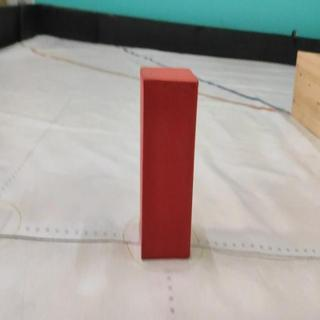redbox: (138, 66, 200, 261)
